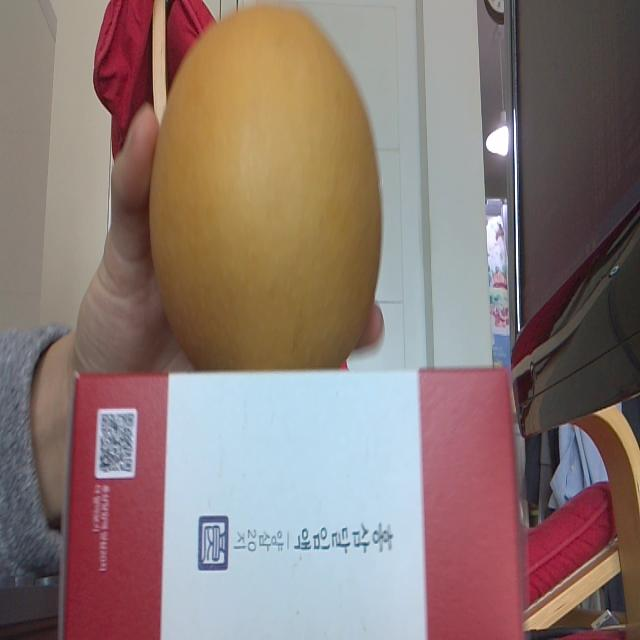pear: (150, 5, 382, 369)
